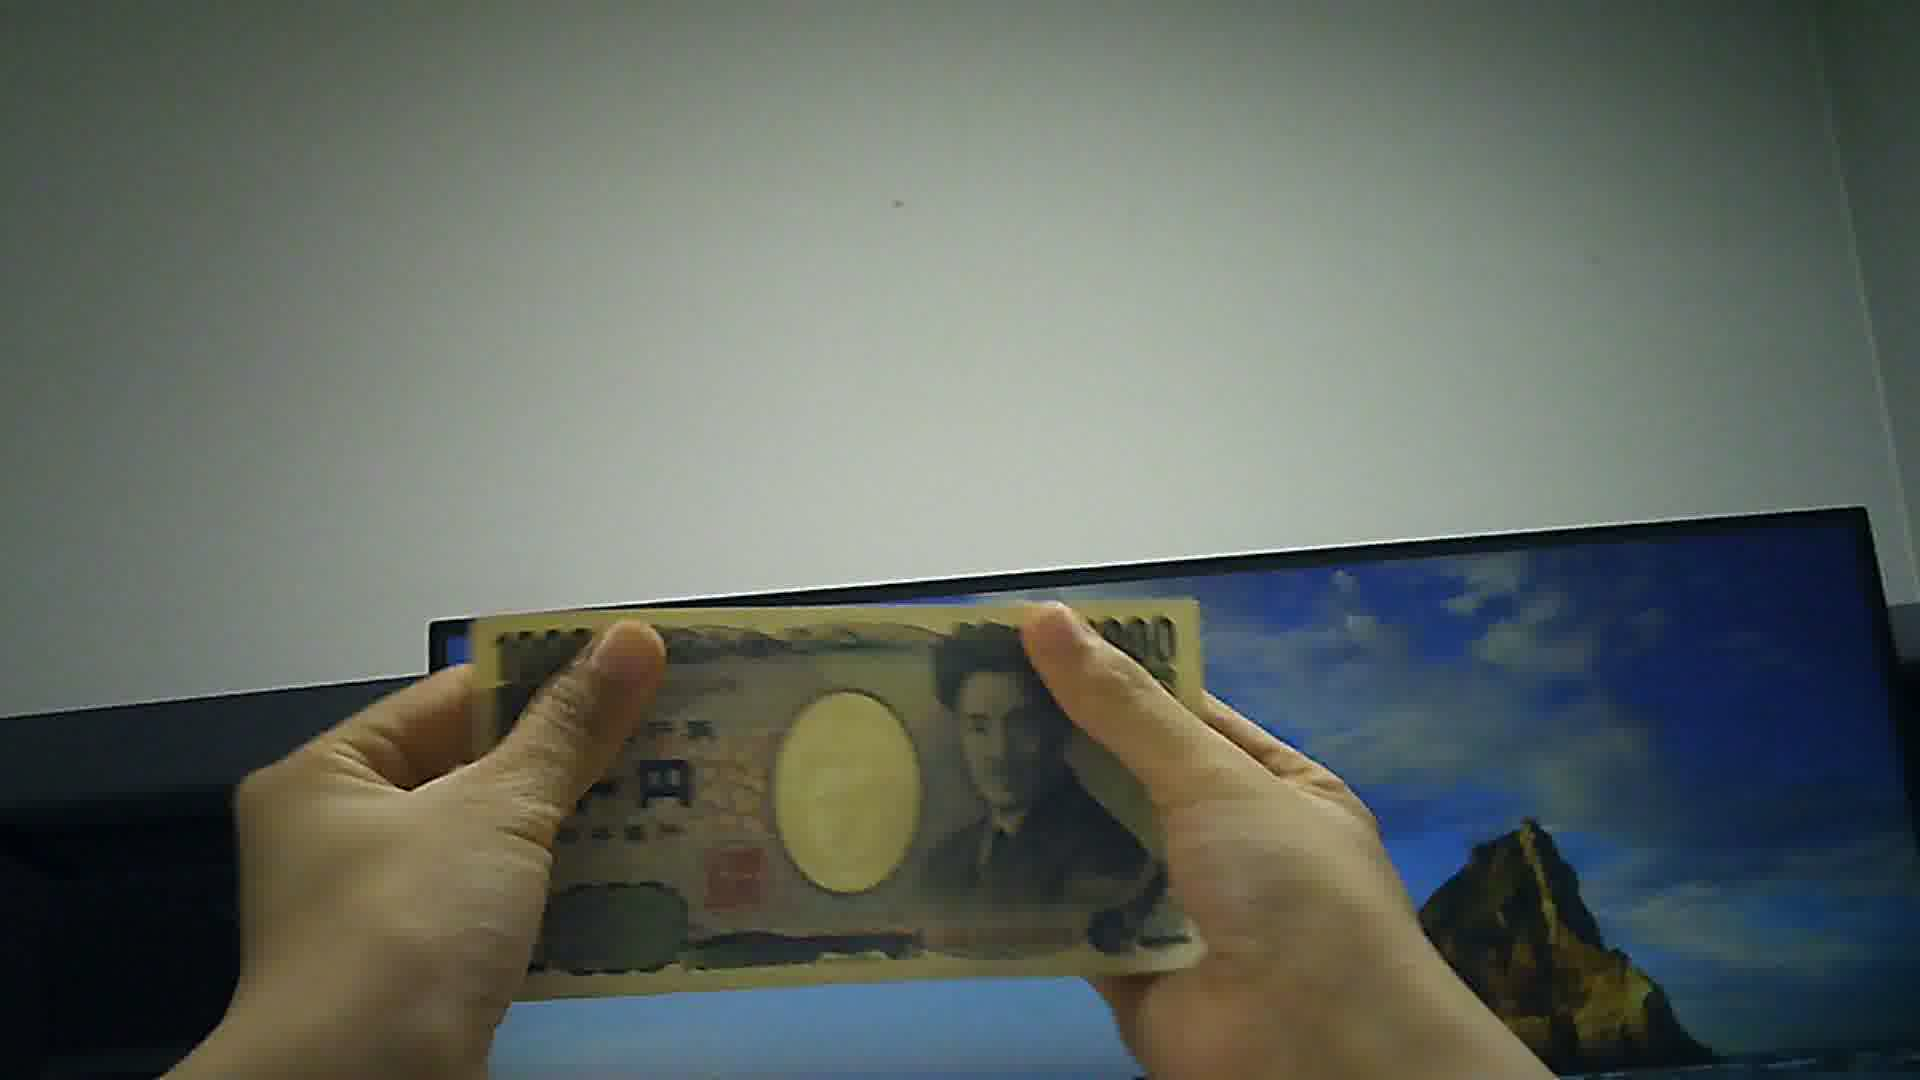1,000 Yen: (469, 601, 1211, 977)
